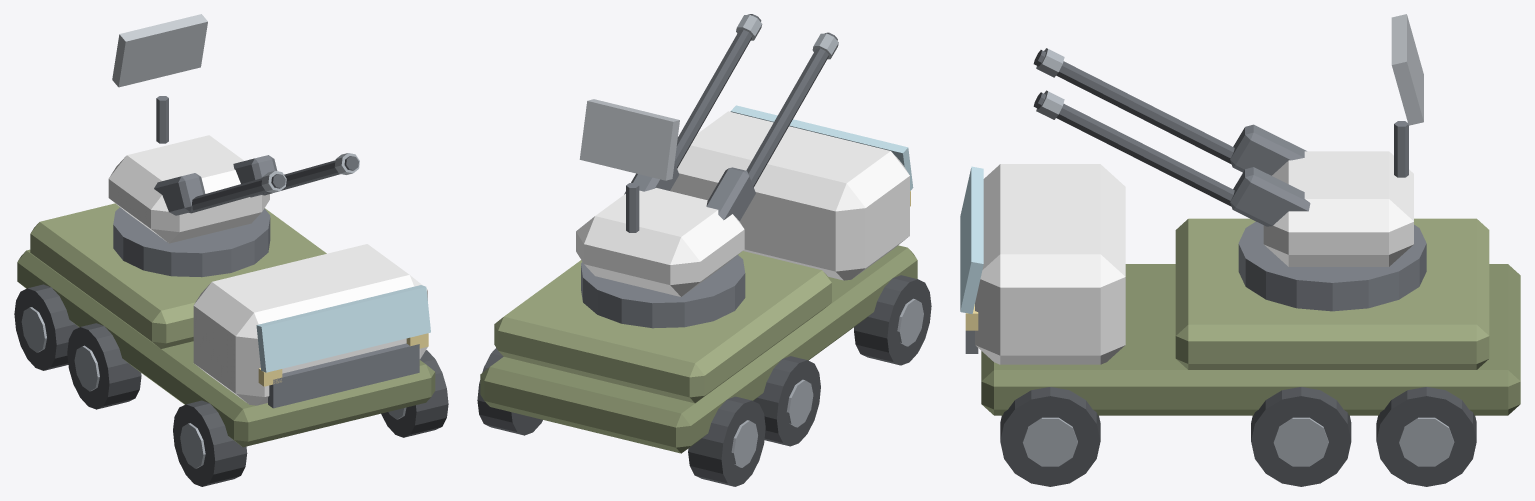
3 views of the same model, side by side, from view 1: azimuth 30°, elevation 25°; view 2: azimuth 150°, elevation 25°; view 3: azimuth 270°, elevation 25° (orthographic). The views are drawn at different scales.
Visible parts, largest first — view 1: main, turret; view 2: main, turret; view 3: main, turret.
Part boxes in pixels (x1=…): main: x1=14, y1=203, x2=448, y2=486; turret: x1=108, y1=14, x2=359, y2=277; main: x1=477, y1=105, x2=931, y2=486; turret: x1=576, y1=14, x2=838, y2=328; main: x1=960, y1=164, x2=1520, y2=486; turret: x1=1033, y1=14, x2=1426, y2=311.
Bounding box in the file's own units: 0.52 × 0.6714 × 0.8937.
